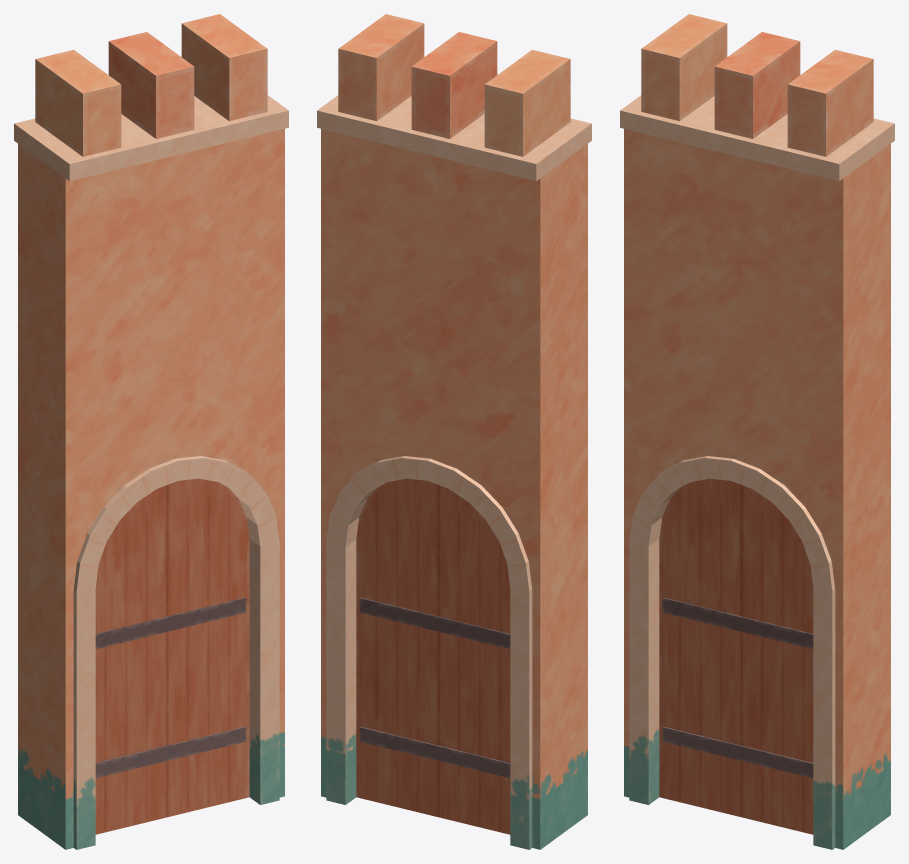
Rendered from towngate.bundle.fbx.
3 renders of one model, left to right at view 1: azimuth 30°, elevation 25°; view 2: azimuth 150°, elevation 25°; view 3: azimuth 330°, elevation 25°, orthographic.
Visible parts, largest first — view 1: towngate, towngate_s11, towngate_low, towngate_s04, towngate_s03, towngate_s09, towngate_s02, towngate_s07, towngate_s05, towngate_s13, towngate_s08, towngate_s00 (+4 smaller); view 2: towngate, towngate_low, towngate_s04, towngate_s02, towngate_s07, towngate_s03, towngate_s06, towngate_s11, towngate_s09, towngate_s13, towngate_s05, towngate_s08 (+4 smaller); view 3: towngate, towngate_s06, towngate_s07, towngate_low, towngate_s00, towngate_s12, towngate_s08, towngate_s11, towngate_s02, towngate_s01, towngate_s03, towngate_s04 (+4 smaller).
Part boxes in pixels (x1,y1,x2,y2): towngate: (14,15,288,849); towngate_s11: (18,220,176,411); towngate_low: (35,14,267,156); towngate_s04: (18,495,164,737); towngate_s03: (18,357,209,526); towngate_s09: (18,659,200,849); towngate_s02: (18,147,237,307); towngate_s07: (173,80,288,252); towngate_s05: (16,68,168,218); towngate_s13: (109,26,264,147); towngate_s08: (208,371,284,446); towngate_s00: (191,442,284,557); towngate: (317,15,591,849); towngate_low: (338,14,570,156); towngate_s04: (426,492,587,724); towngate_s02: (369,166,583,320); towngate_s07: (317,92,427,253); towngate_s03: (407,340,587,529); towngate_s06: (321,246,445,400); towngate_s11: (443,235,569,389); towngate_s09: (404,655,586,824); towngate_s13: (340,30,482,168); towngate_s05: (463,40,589,223); towngate_s08: (321,331,410,468); towngate: (620,15,894,849); towngate_s06: (730,264,890,439); towngate_s07: (723,119,893,298); towngate_low: (641,14,873,156); towngate_s00: (736,463,890,608); towngate_s12: (774,662,890,849); towngate_s08: (767,348,890,495); towngate_s11: (624,181,735,357); towngate_s02: (624,142,789,313); towngate_s01: (816,593,890,732); towngate_s03: (624,352,767,490); towngate_s04: (624,473,744,683).
Bounding box in the file's own units: 8 × 26.2 × 3.5.
1 material, 1 textured.
